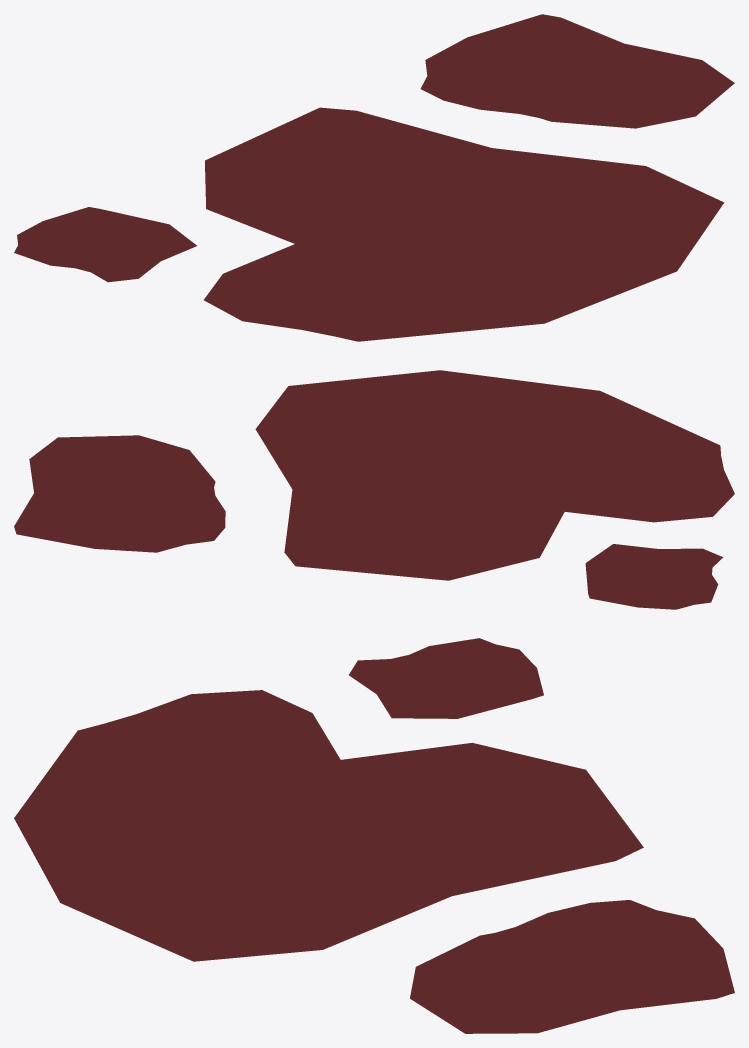
Rendered from quaternius-zombie-apocalypse-kit-march-blood-2.glb.
3 renders of one model, top to bottom at view 1: azimuth 30°, elevation 25°; view 2: azimuth 150°, elevation 25°; view 3: azimuth 270°, elevation 25°, orthographic. The views are drawn at different scales.
Parts seen in each view (by area): view 1: Blood_2; view 2: Blood_2; view 3: Blood_2.
Boxes of the visible parts, x1,y1,x2,y2 form: Blood_2: (14,14,734,341); Blood_2: (14,370,734,609); Blood_2: (14,638,734,1033).
Size of the model in its own units: 1.71 by 0 by 1.32.
1 material, 1 textured.
